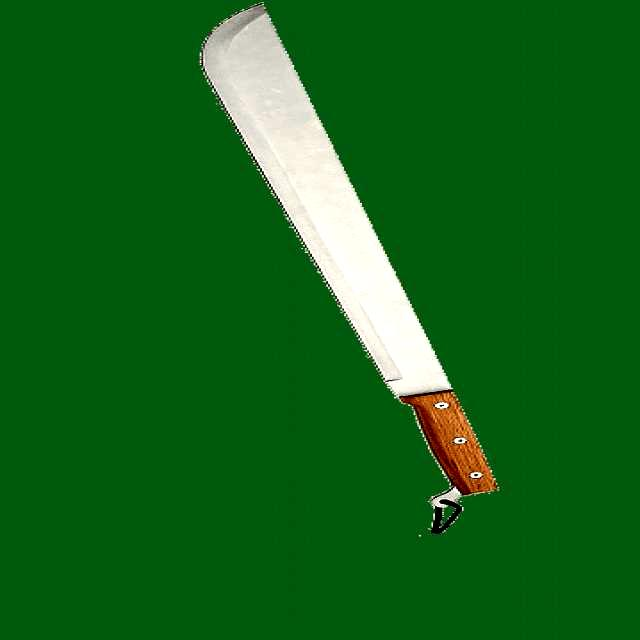long knife: (161, 19, 563, 518), (198, 5, 499, 528)
